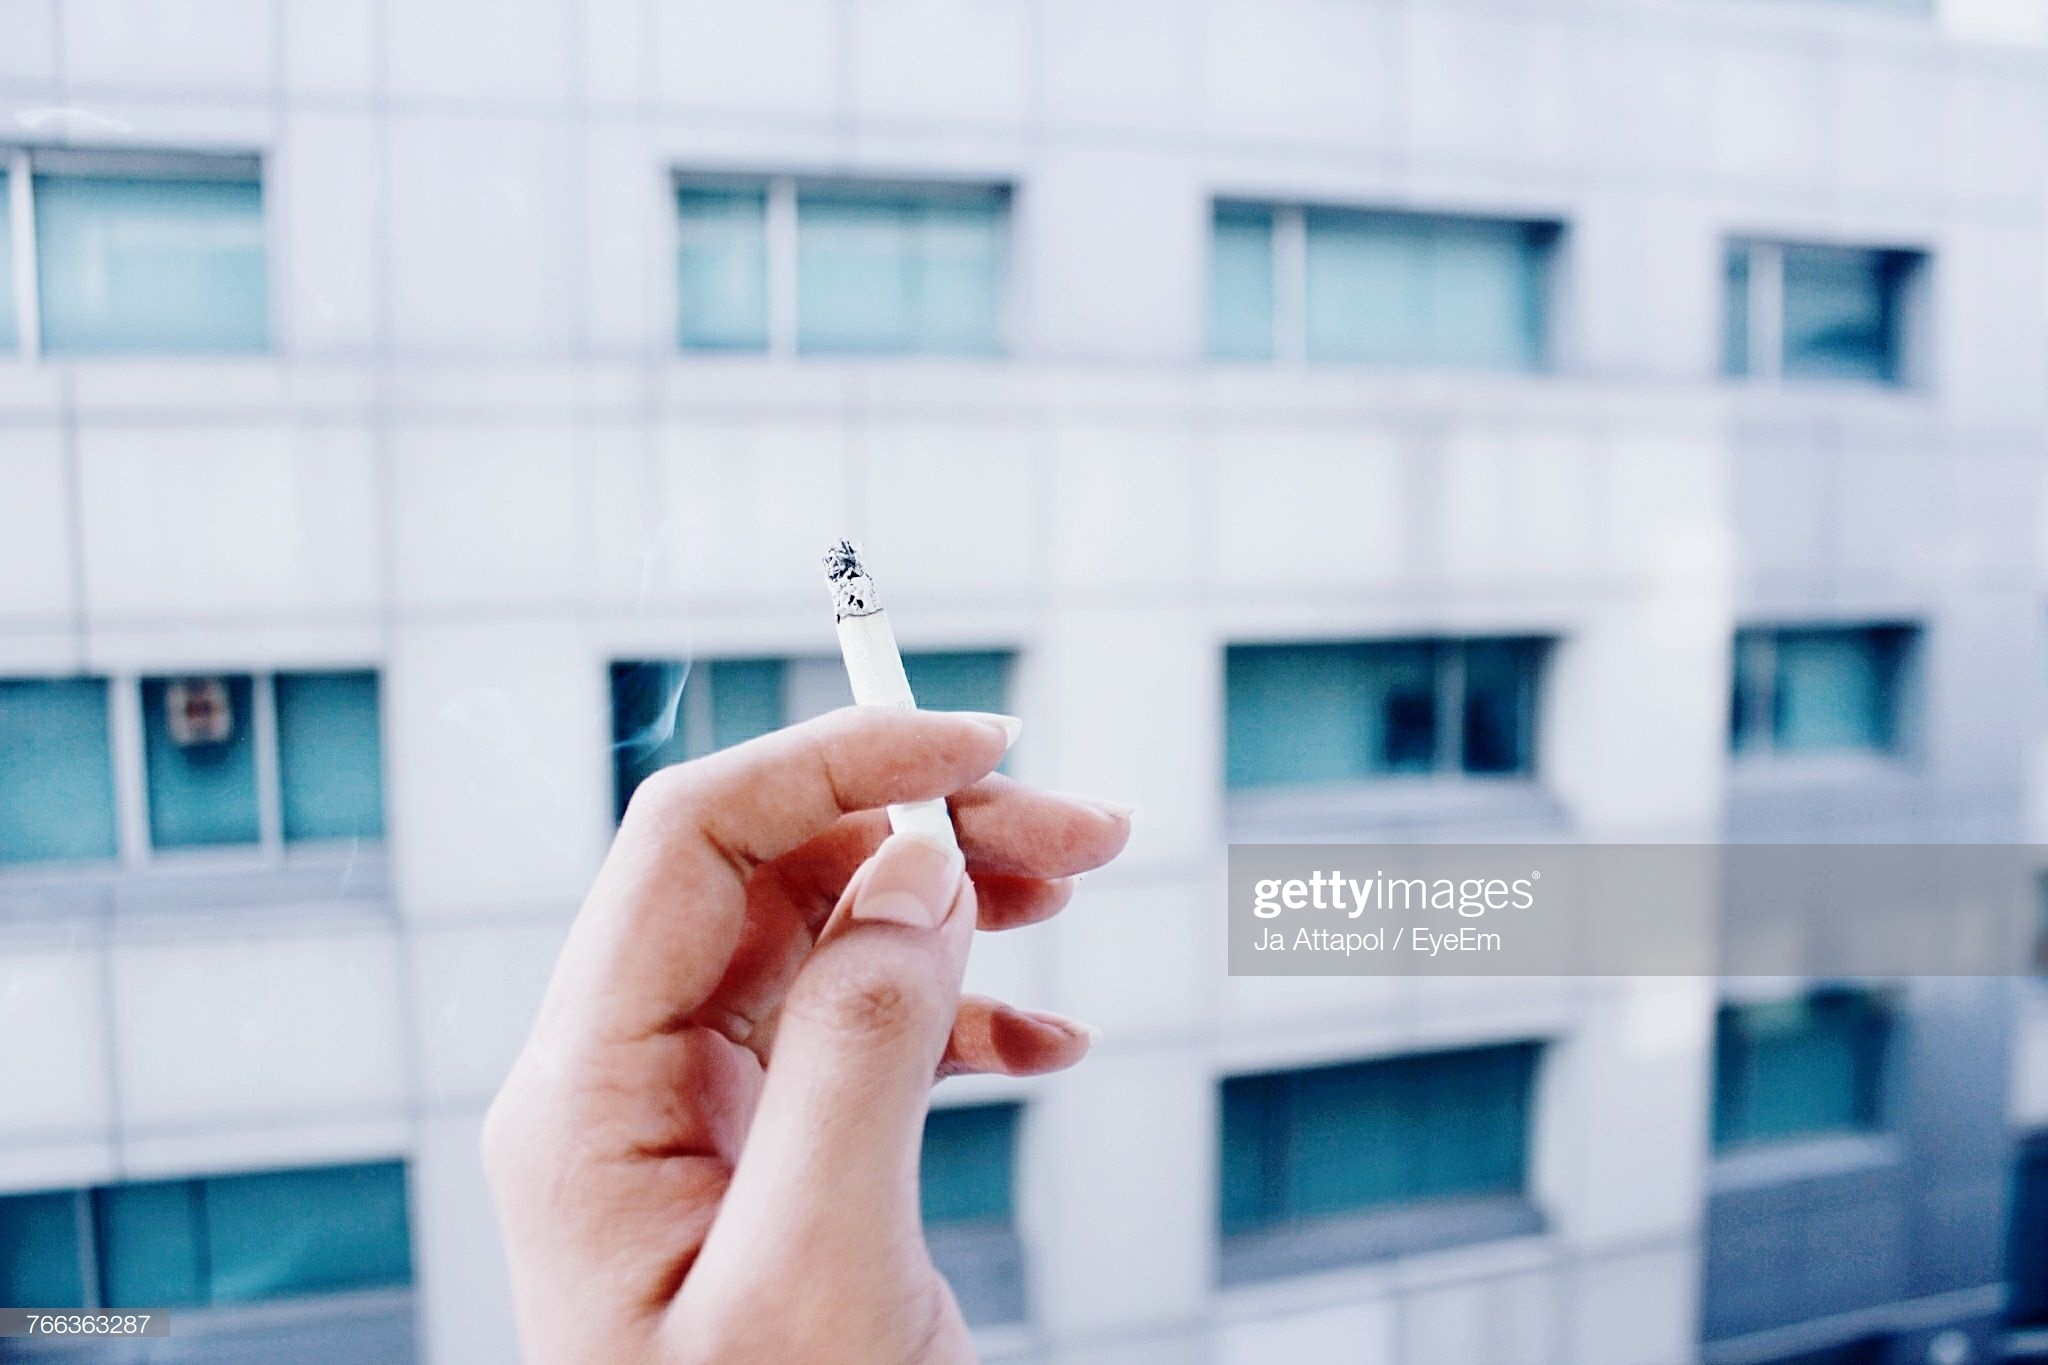sigaretta: (809, 533, 990, 916)
